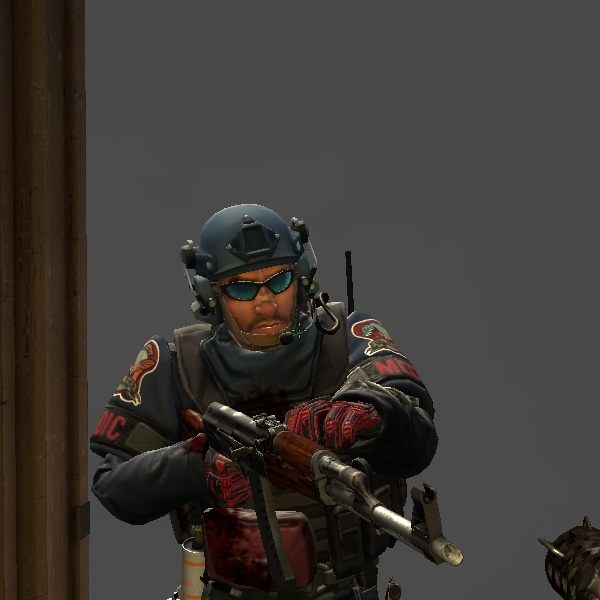ct_body: (48, 195, 500, 600)
ct_head: (162, 193, 344, 364)
